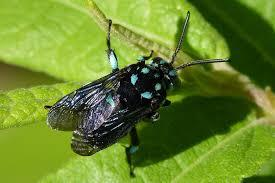Thyreus: (49, 11, 206, 156)
